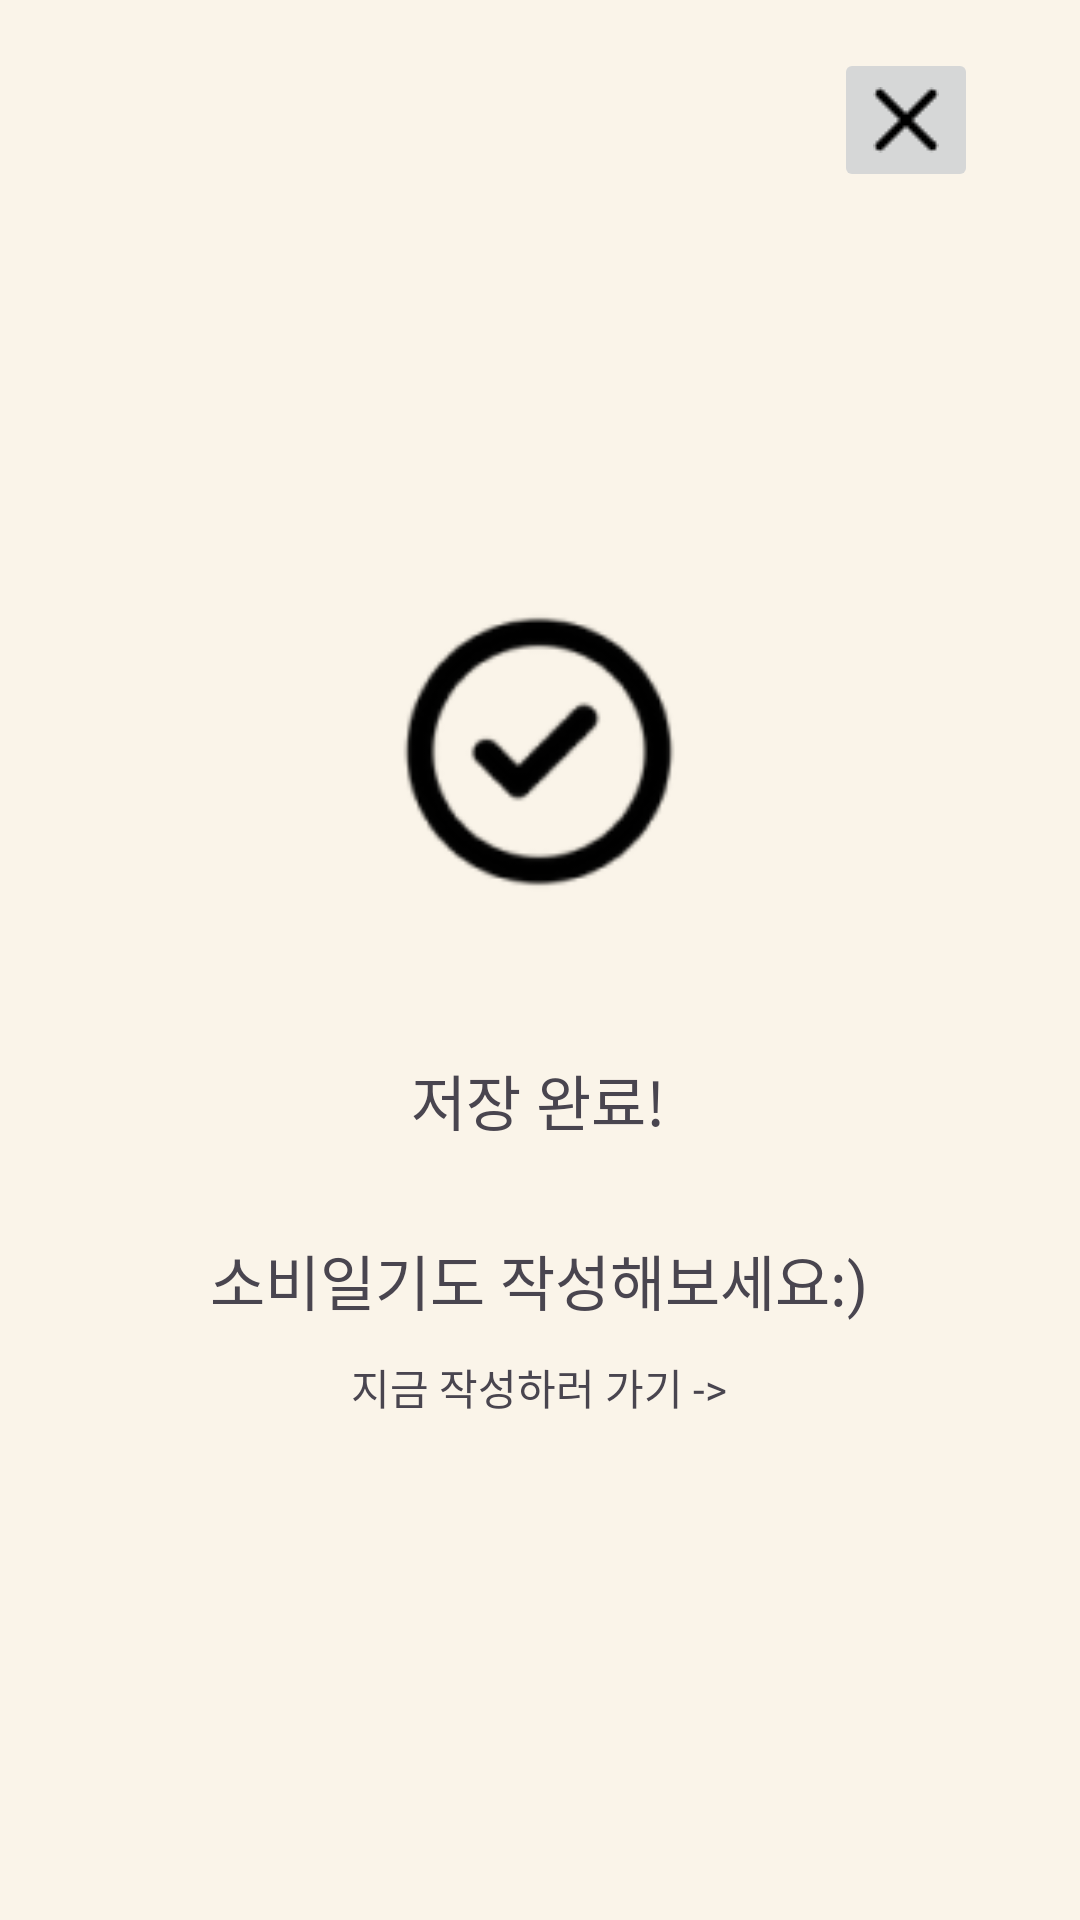

Where to tap for icons on this 1080x1920 app screen, as [x,y]:
check: [539,751]
